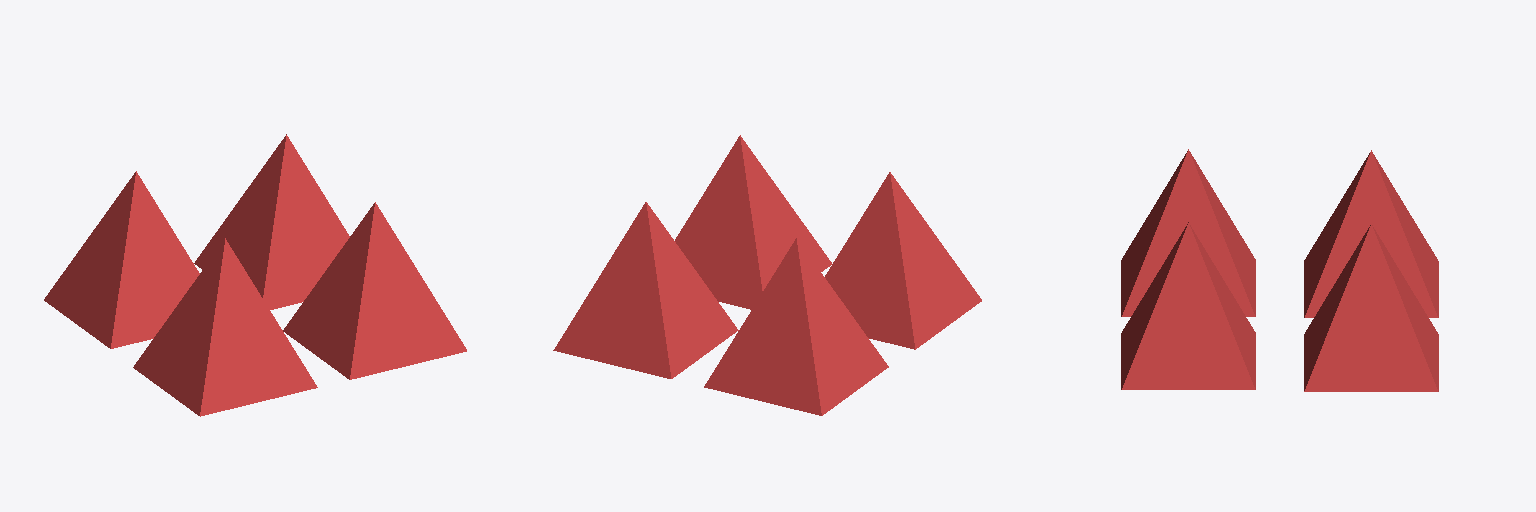
The model's file is trap1_stick.obj.
3 views of the same model, side by side, from view 1: azimuth 30°, elevation 25°; view 2: azimuth 150°, elevation 25°; view 3: azimuth 270°, elevation 25° (orthographic).
Parts seen in each view (by area): view 1: Pyramid002; view 2: Pyramid002; view 3: Pyramid002.
Part boxes in pixels (left/top/right/bottom): Pyramid002: left=44, top=134, right=466, bottom=416; Pyramid002: left=553, top=135, right=981, bottom=415; Pyramid002: left=1121, top=149, right=1438, bottom=391.
Size of the model in its own units: 39.5 by 19.43 by 40.05.